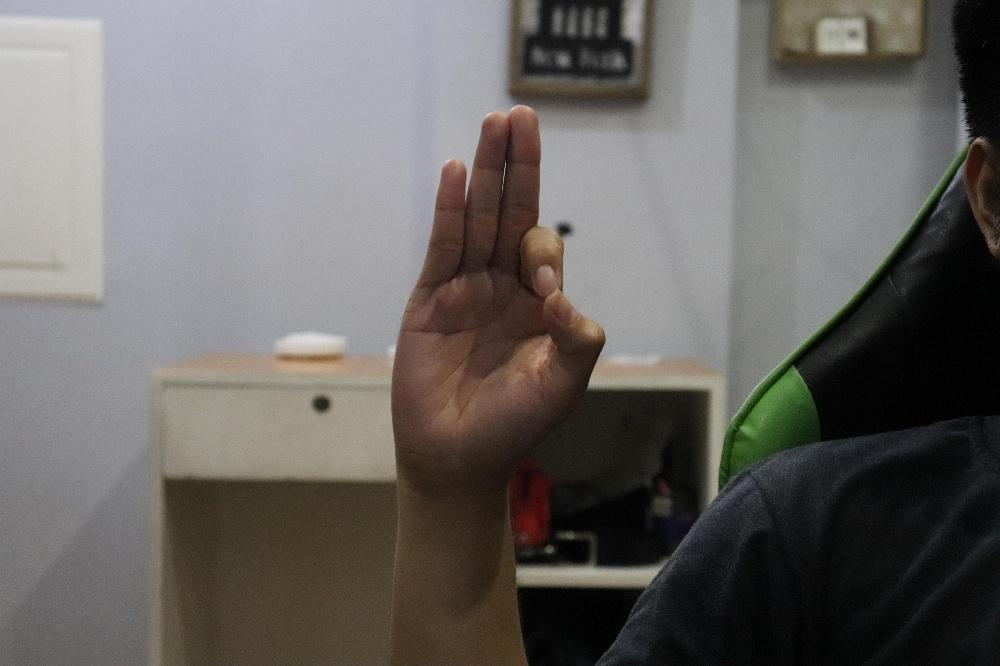f: (390, 102, 606, 478)
